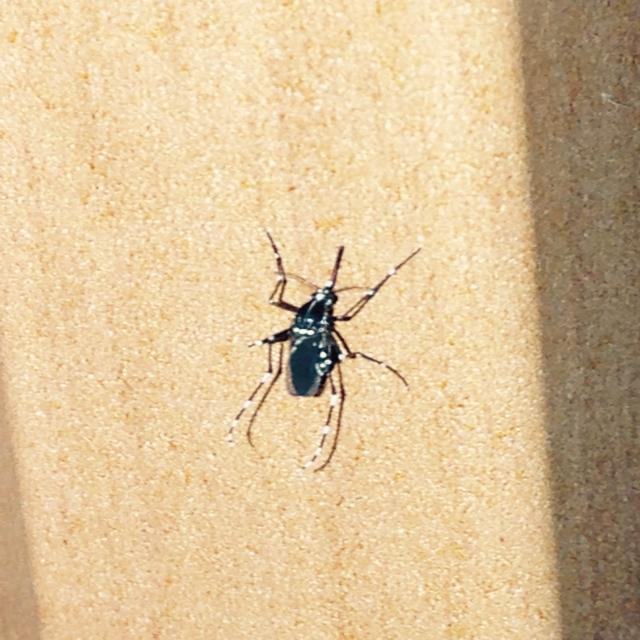albopictus: (218, 235, 426, 473)
